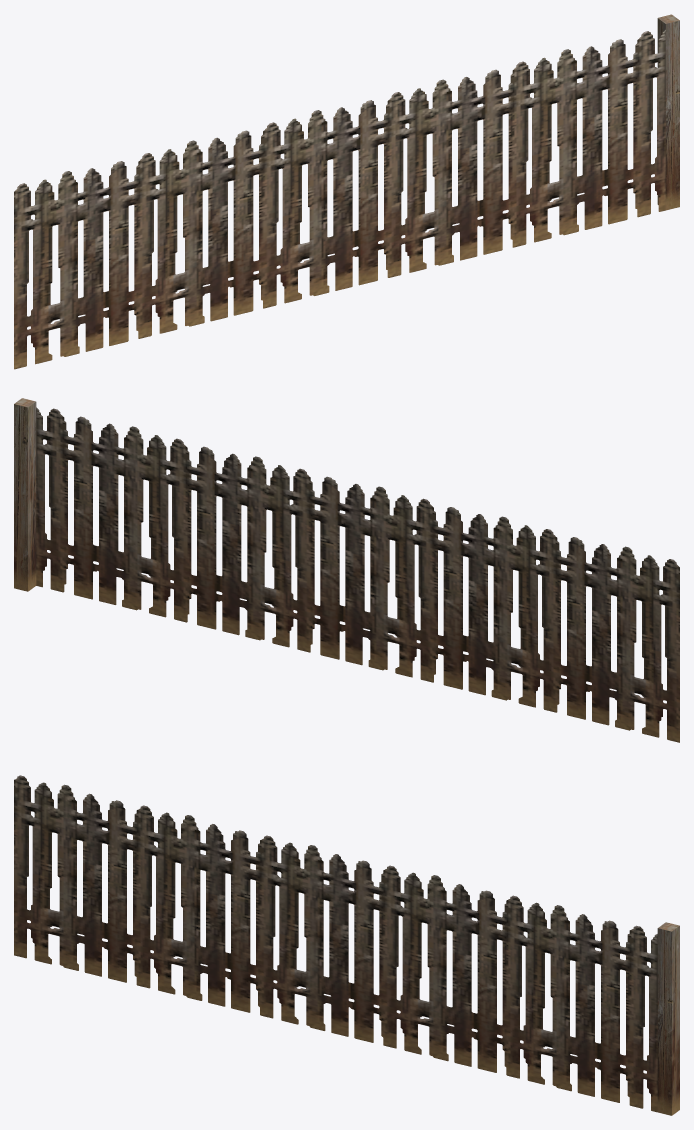
File: Mis1_WoodFence.glb
The picture shows the model from 3 angles, top to bottom: view 1: azimuth 30°, elevation 25°; view 2: azimuth 150°, elevation 25°; view 3: azimuth 330°, elevation 25°; orthographic projection.
Parts seen in each view (by area): view 1: MIS1_WOODFENCE; view 2: MIS1_WOODFENCE; view 3: MIS1_WOODFENCE.
Part boxes in pixels (<box>): MIS1_WOODFENCE: <box>14,14,679,369</box>; MIS1_WOODFENCE: <box>14,398,679,742</box>; MIS1_WOODFENCE: <box>14,775,679,1115</box>.
Bounding box in the file's own units: 4.67 × 1.25 × 0.1.
2 materials, 2 textured.
